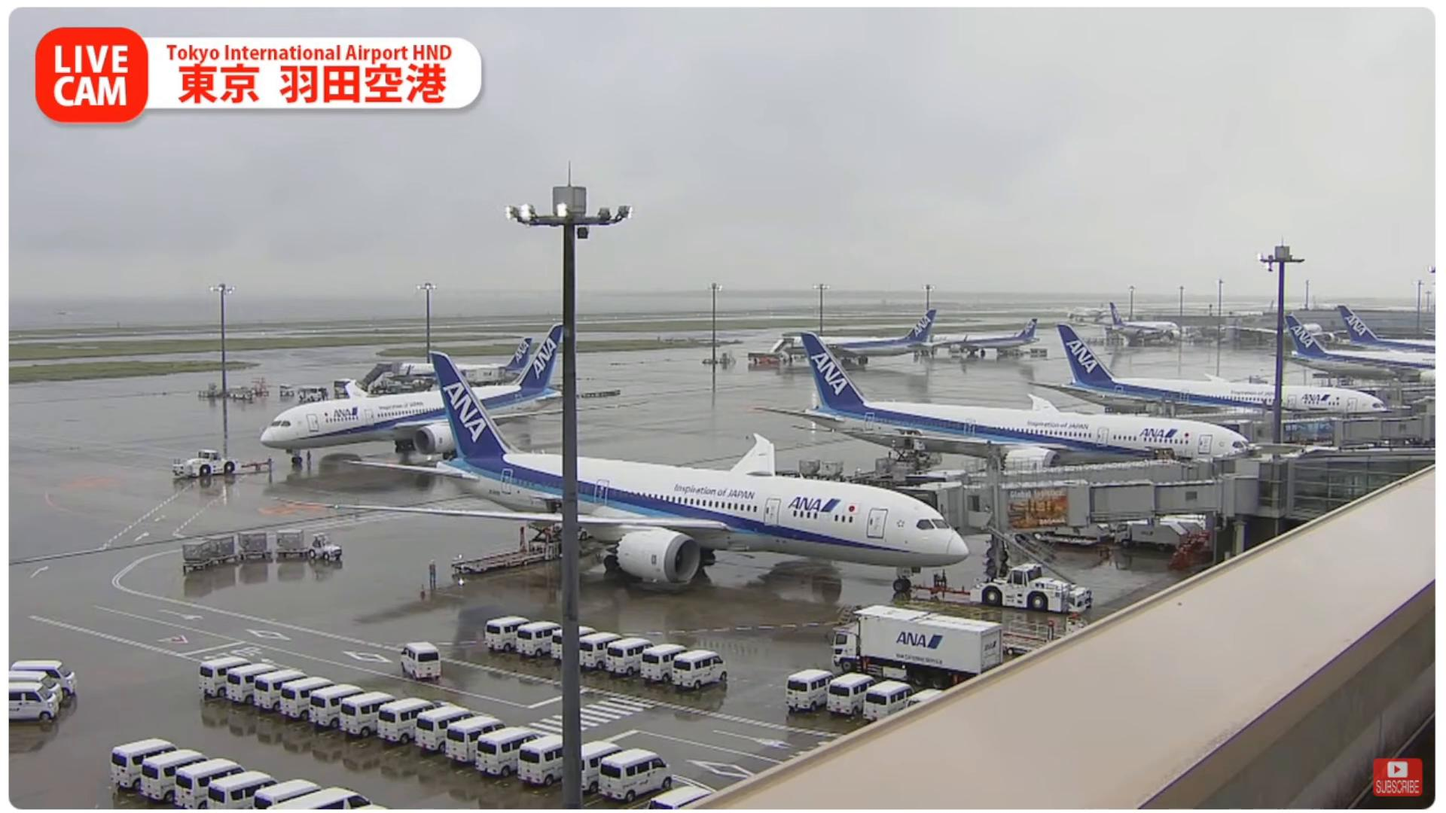APS: (968, 562, 1094, 614)
Aerobridge: (898, 474, 1254, 535), (904, 455, 1233, 482)
Airplane: (270, 351, 970, 592)
Catering: (833, 605, 1003, 690)
Dolly: (182, 547, 307, 572)
JCPL: (452, 525, 561, 575), (1002, 614, 1089, 655)
Tractor: (308, 531, 341, 560)
Window: (1292, 458, 1433, 516)
